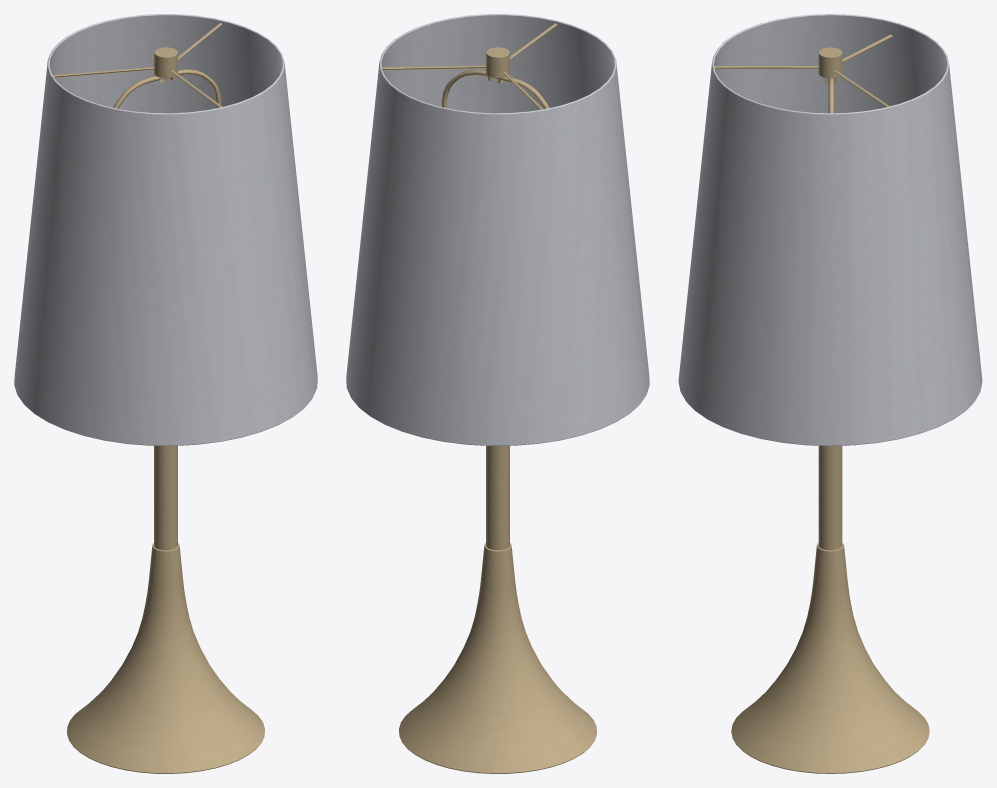
3 views of the same model, side by side, from view 1: azimuth 30°, elevation 25°; view 2: azimuth 150°, elevation 25°; view 3: azimuth 270°, elevation 25° (orthographic).
Visible parts, largest first — view 1: RootNode; view 2: RootNode; view 3: RootNode.
Boxes of the visible parts, left/top/right/bottom form: RootNode: left=14, top=14, right=317, bottom=773; RootNode: left=346, top=14, right=649, bottom=773; RootNode: left=678, top=14, right=982, bottom=773.
Size of the model in its own units: 0.2307 by 0.5693 by 0.2307.
1 material, 1 textured.
